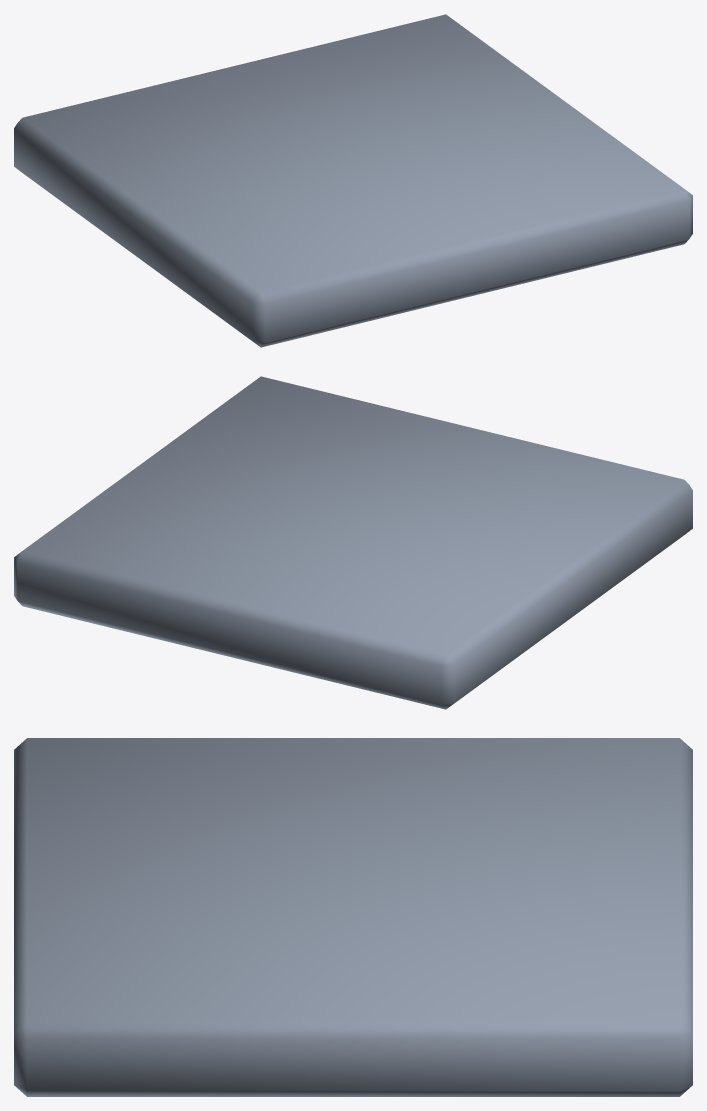
Rendered from Sidewalk_Panel_2.fbx.
The picture shows the model from 3 angles, top to bottom: view 1: azimuth 30°, elevation 25°; view 2: azimuth 150°, elevation 25°; view 3: azimuth 270°, elevation 25°; orthographic projection. The views are drawn at different scales.
Visible parts, largest first — view 1: Cube.227; view 2: Cube.227; view 3: Cube.227.
Part boxes in pixels (bbox=[...]): Cube.227: bbox=[14, 14, 692, 347]; Cube.227: bbox=[14, 376, 692, 709]; Cube.227: bbox=[14, 738, 692, 1096].
Size of the model in its own units: 323 by 38.83 by 315.
